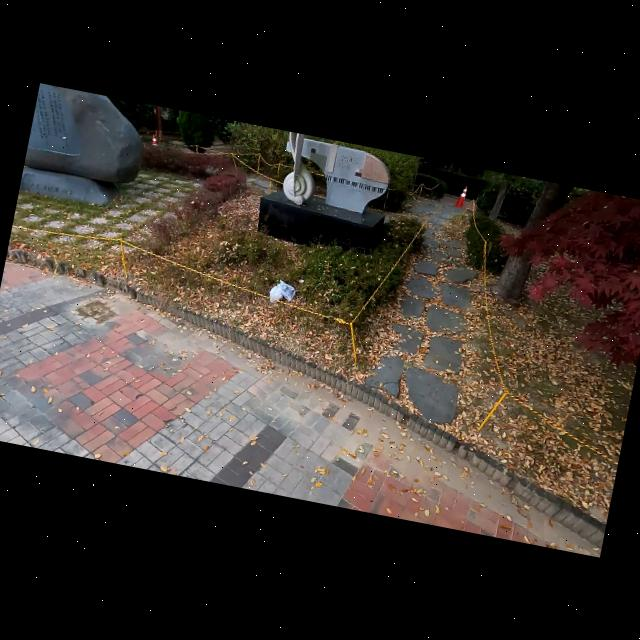trash: (266, 280, 288, 304), (275, 278, 296, 300)
